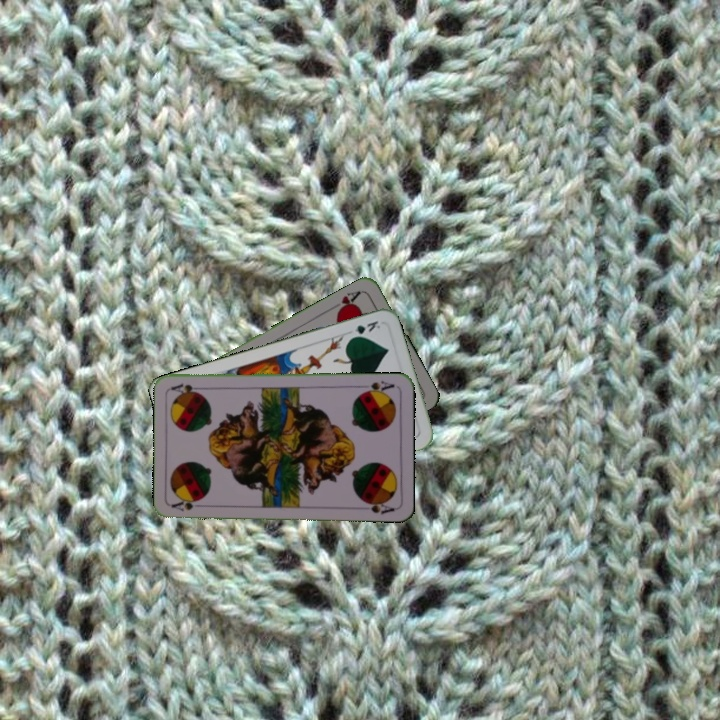GK: (346, 316, 383, 341)
HA: (333, 286, 365, 316)
SA: (357, 377, 397, 396), (168, 496, 209, 514)
